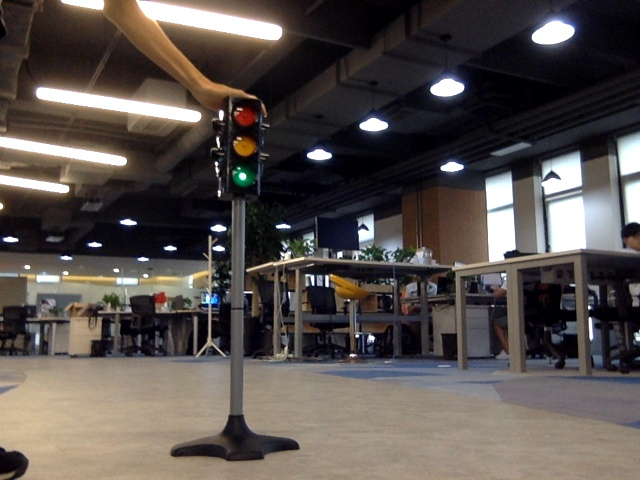green: (226, 102, 257, 189)
